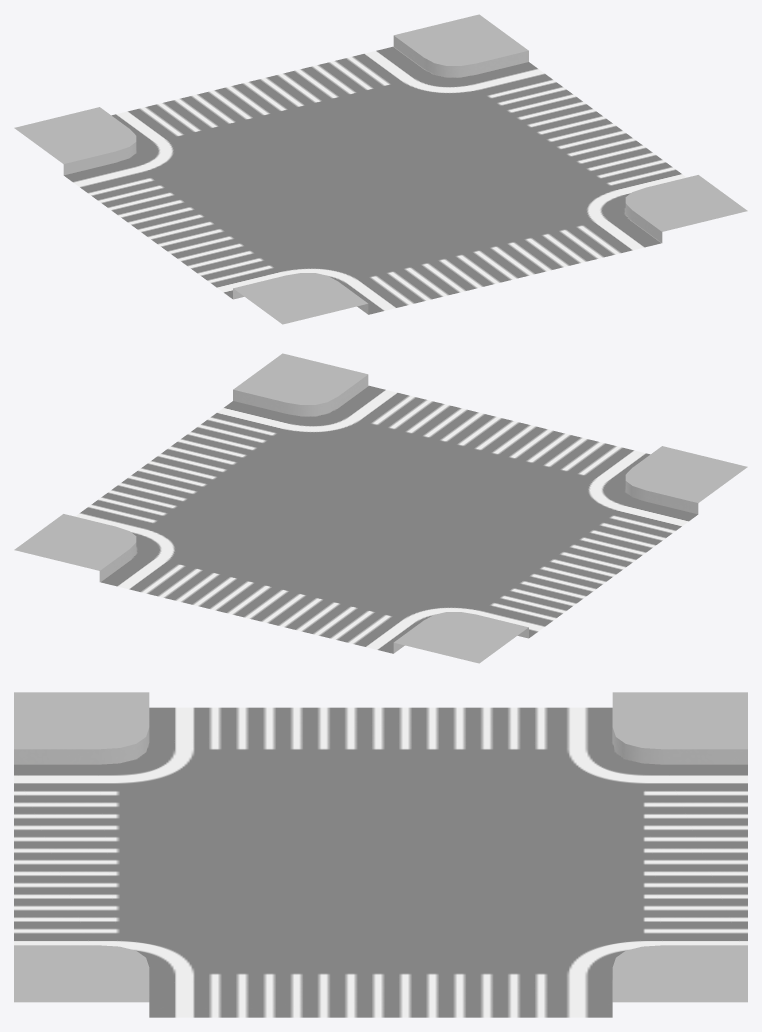
Rendered from Road2.glb.
3 renders of one model, top to bottom at view 1: azimuth 30°, elevation 25°; view 2: azimuth 150°, elevation 25°; view 3: azimuth 270°, elevation 25°, orthographic. The views are drawn at different scales.
Parts seen in each view (by area): view 1: Object003; view 2: Object003; view 3: Object003.
Part boxes in pixels (x1,y1,x2,y2): Object003: (14,14,747,324); Object003: (14,353,747,663); Object003: (14,692,747,1017).
Size of the model in its own units: 6 by 0.1385 by 6.
1 material, 1 textured.
